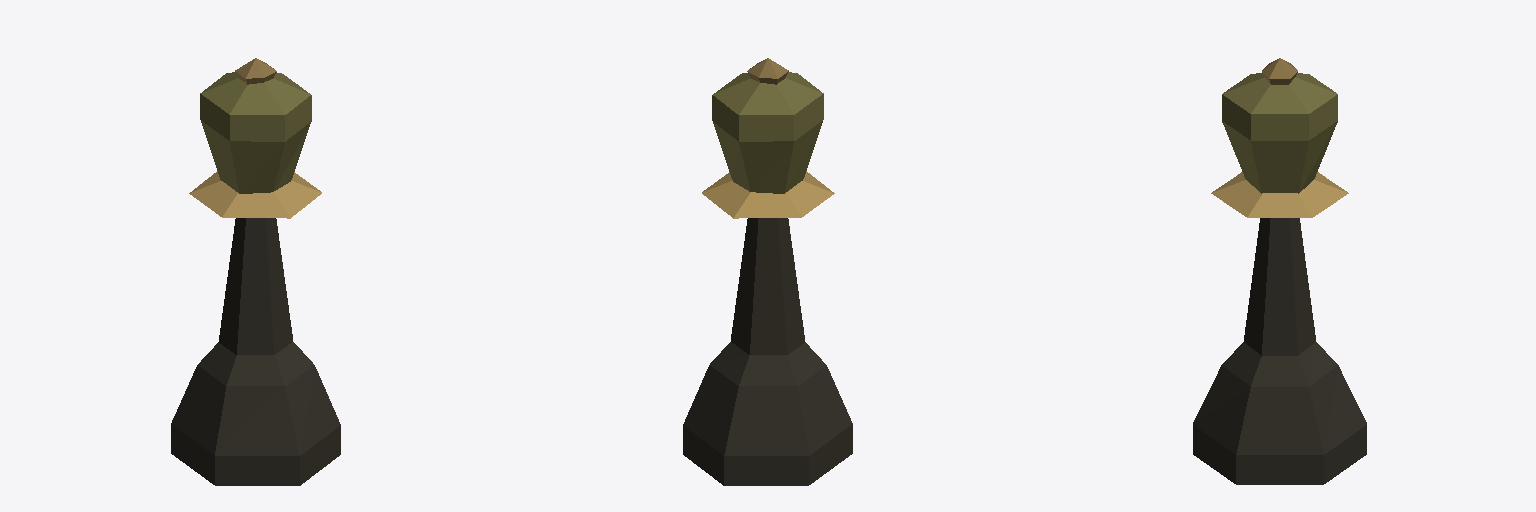
File: QueenW.obj
The picture shows the model from 3 angles: view 1: azimuth 30°, elevation 25°; view 2: azimuth 150°, elevation 25°; view 3: azimuth 270°, elevation 25°; orthographic projection.
Parts seen in each view (by area): view 1: QueenW; view 2: QueenW; view 3: QueenW.
Part boxes in pixels (x1,y1,x2,y2): QueenW: (171,58,340,485); QueenW: (683,58,852,485); QueenW: (1193,58,1366,484).
Size of the model in its own units: 1.89 by 5.67 by 2.27.